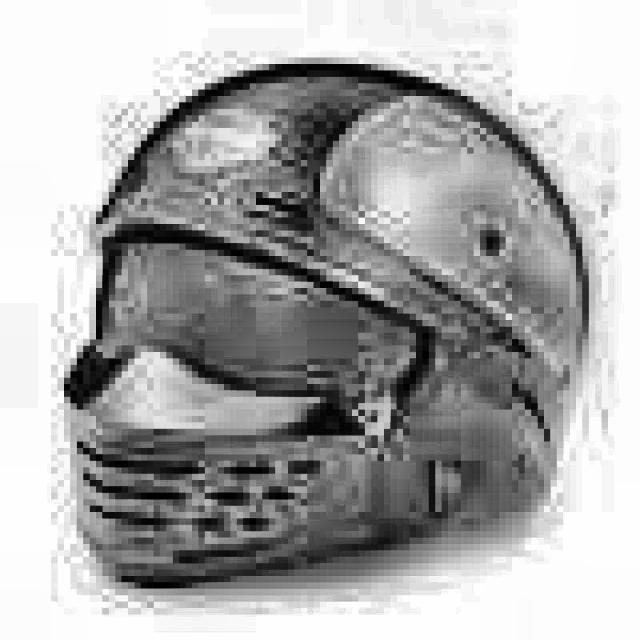Helmet: (53, 50, 577, 595)
